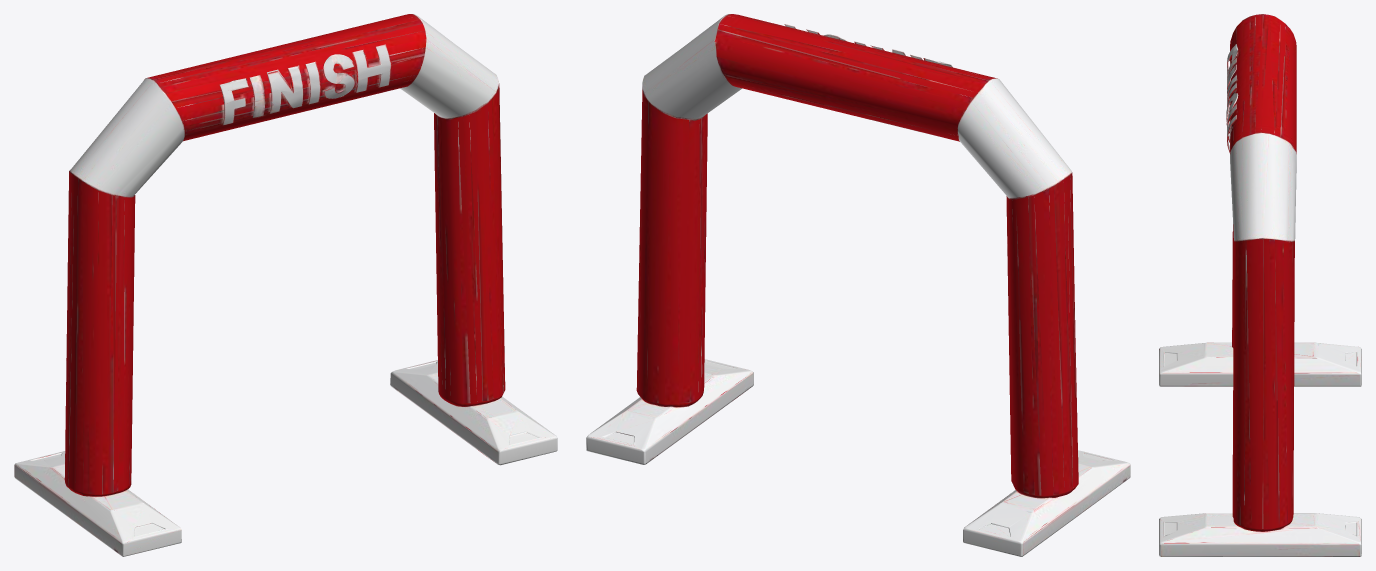
The model's file is finish_arch.glb.
3 views of the same model, side by side, from view 1: azimuth 30°, elevation 25°; view 2: azimuth 150°, elevation 25°; view 3: azimuth 270°, elevation 25° (orthographic). The views are drawn at different scales.
Size of the model in its own units: 0.9565 by 0.873 by 0.4155.
1 material, 1 textured.
